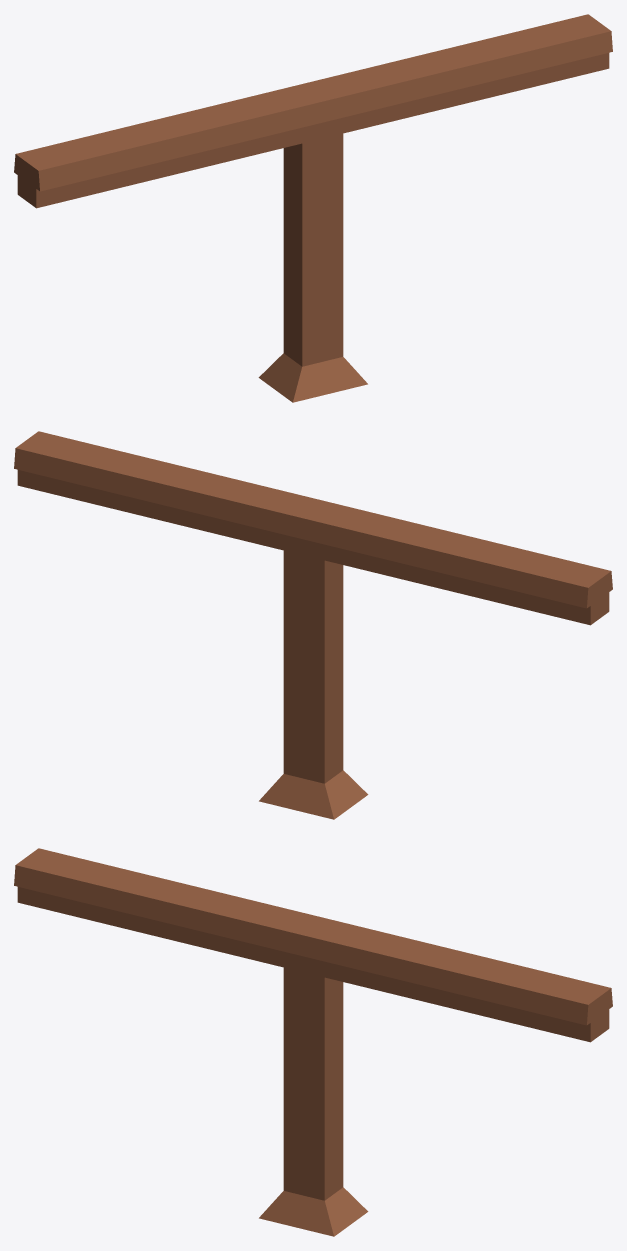
Rendered from Railing.fbx.
3 views of the same model, one above another, from view 1: azimuth 30°, elevation 25°; view 2: azimuth 150°, elevation 25°; view 3: azimuth 330°, elevation 25° (orthographic).
Visible parts, largest first — view 1: Cube; view 2: Cube; view 3: Cube.
Boxes of the visible parts, x1,y1,x2,y2 form: Cube: (14,14,612,402); Cube: (14,431,612,819); Cube: (14,848,612,1236).
Size of the model in its own units: 129 by 62.04 by 13.36.
